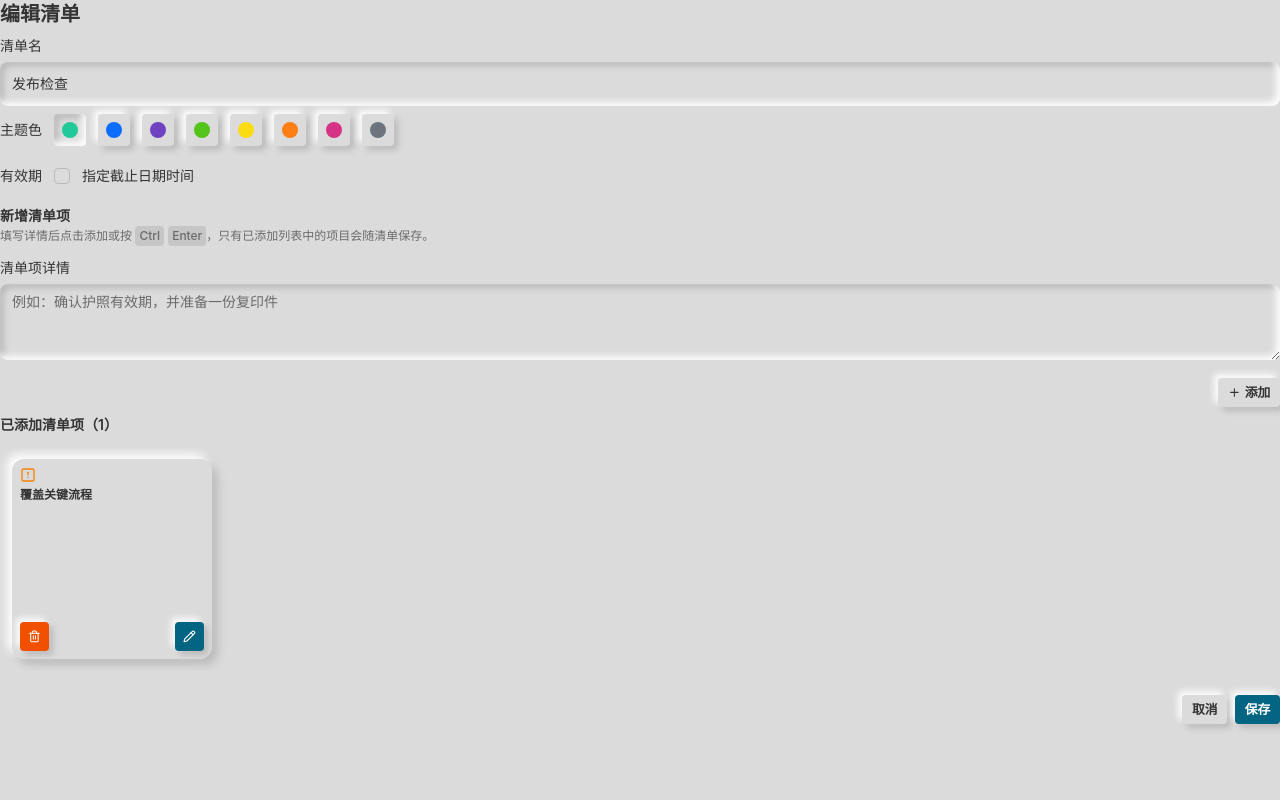
Test: ChecklistForm › allows deleting the last draft item from its edit dialog
This screenshot has width=1280, height=800.
Step 1. Click the button named "编辑清单项" → point(190, 636), box [175,622,204,651]
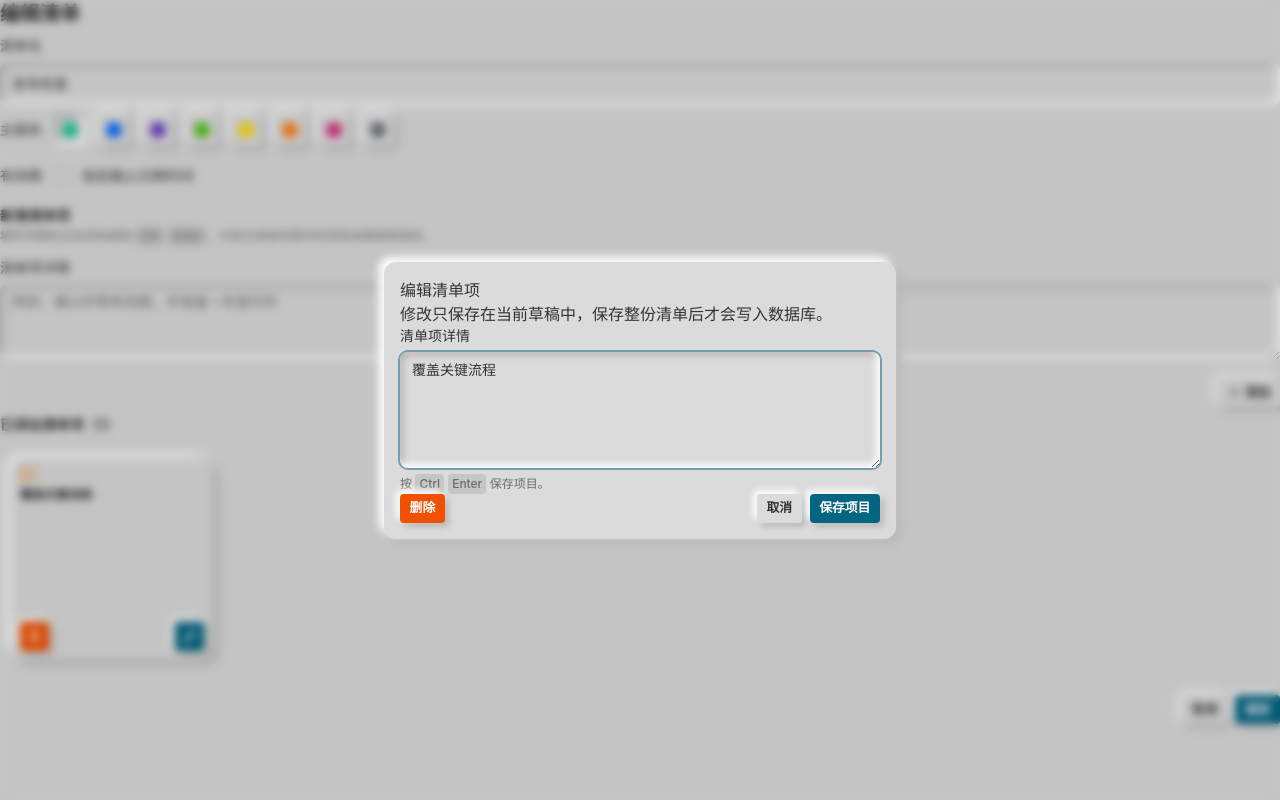
Step 2. Click the button "删除" → point(422, 508), box [400,494,445,522]
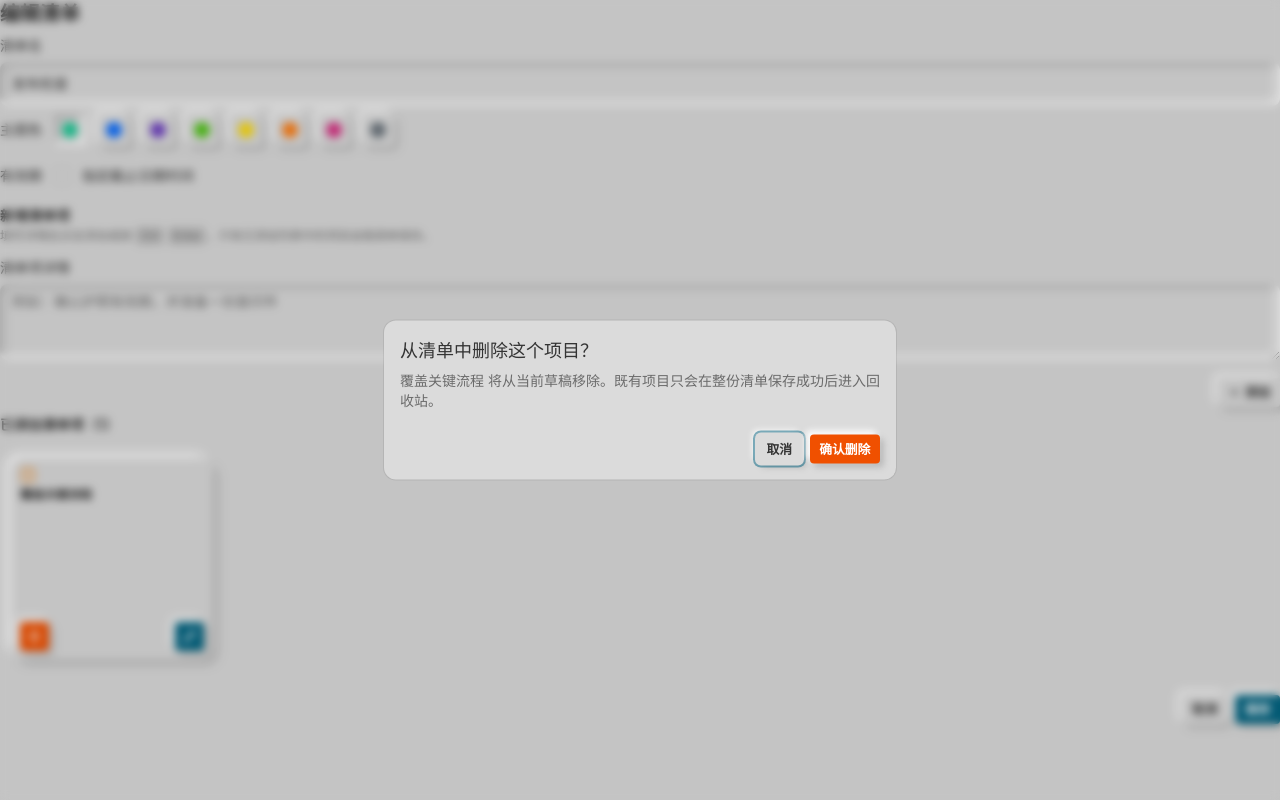
Result: the button "确认删除" is enabled
Step 3. Click the button "确认删除" → point(845, 449), box [810,434,880,464]
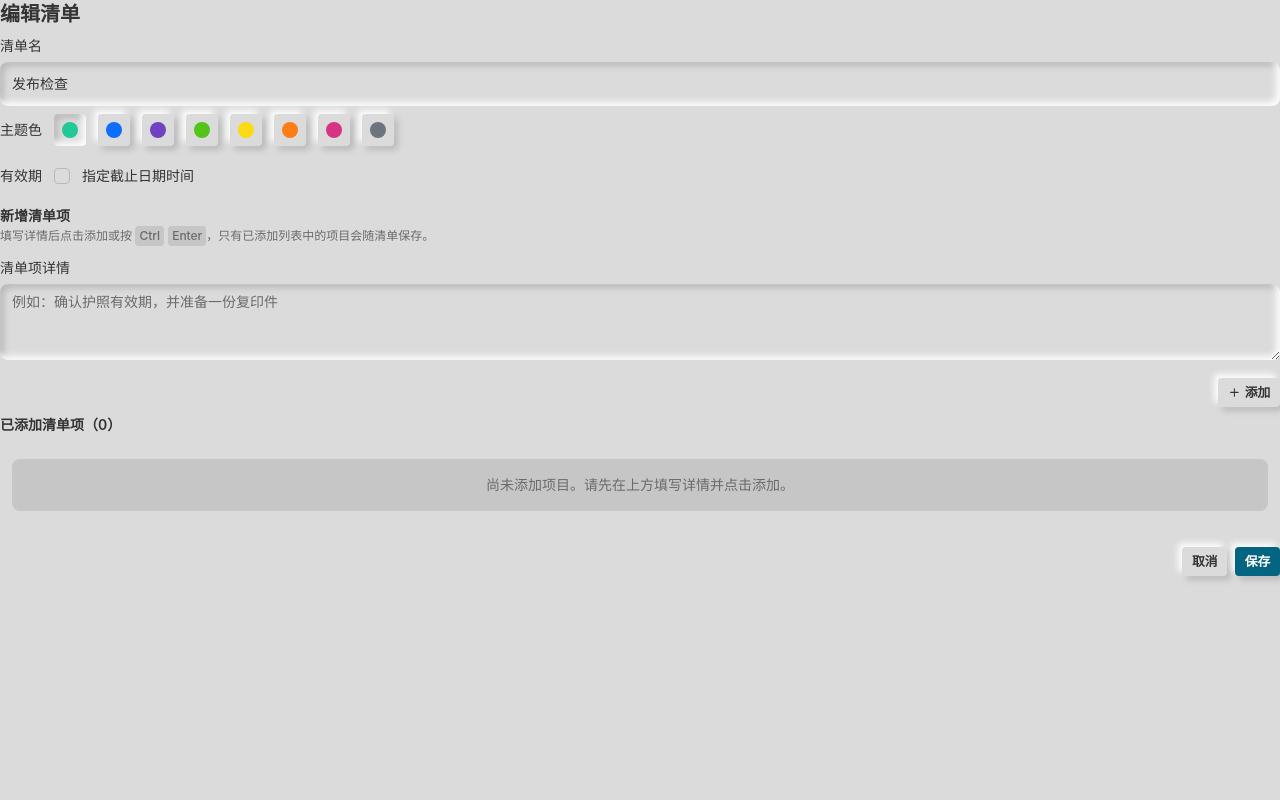
Result: the heading "已添加清单项（0）" is shown at [0,416,121,433]
